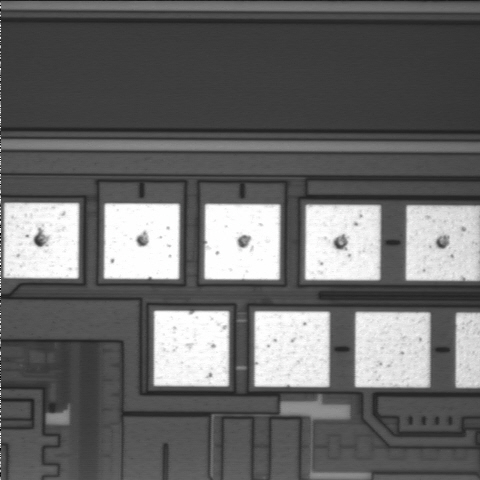pad: (3, 203, 79, 279), (104, 203, 180, 279), (204, 204, 280, 280), (254, 311, 330, 387), (305, 205, 381, 280), (154, 311, 229, 386), (355, 312, 430, 387)
